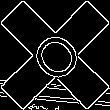O_SE: (22, 22, 88, 88)
